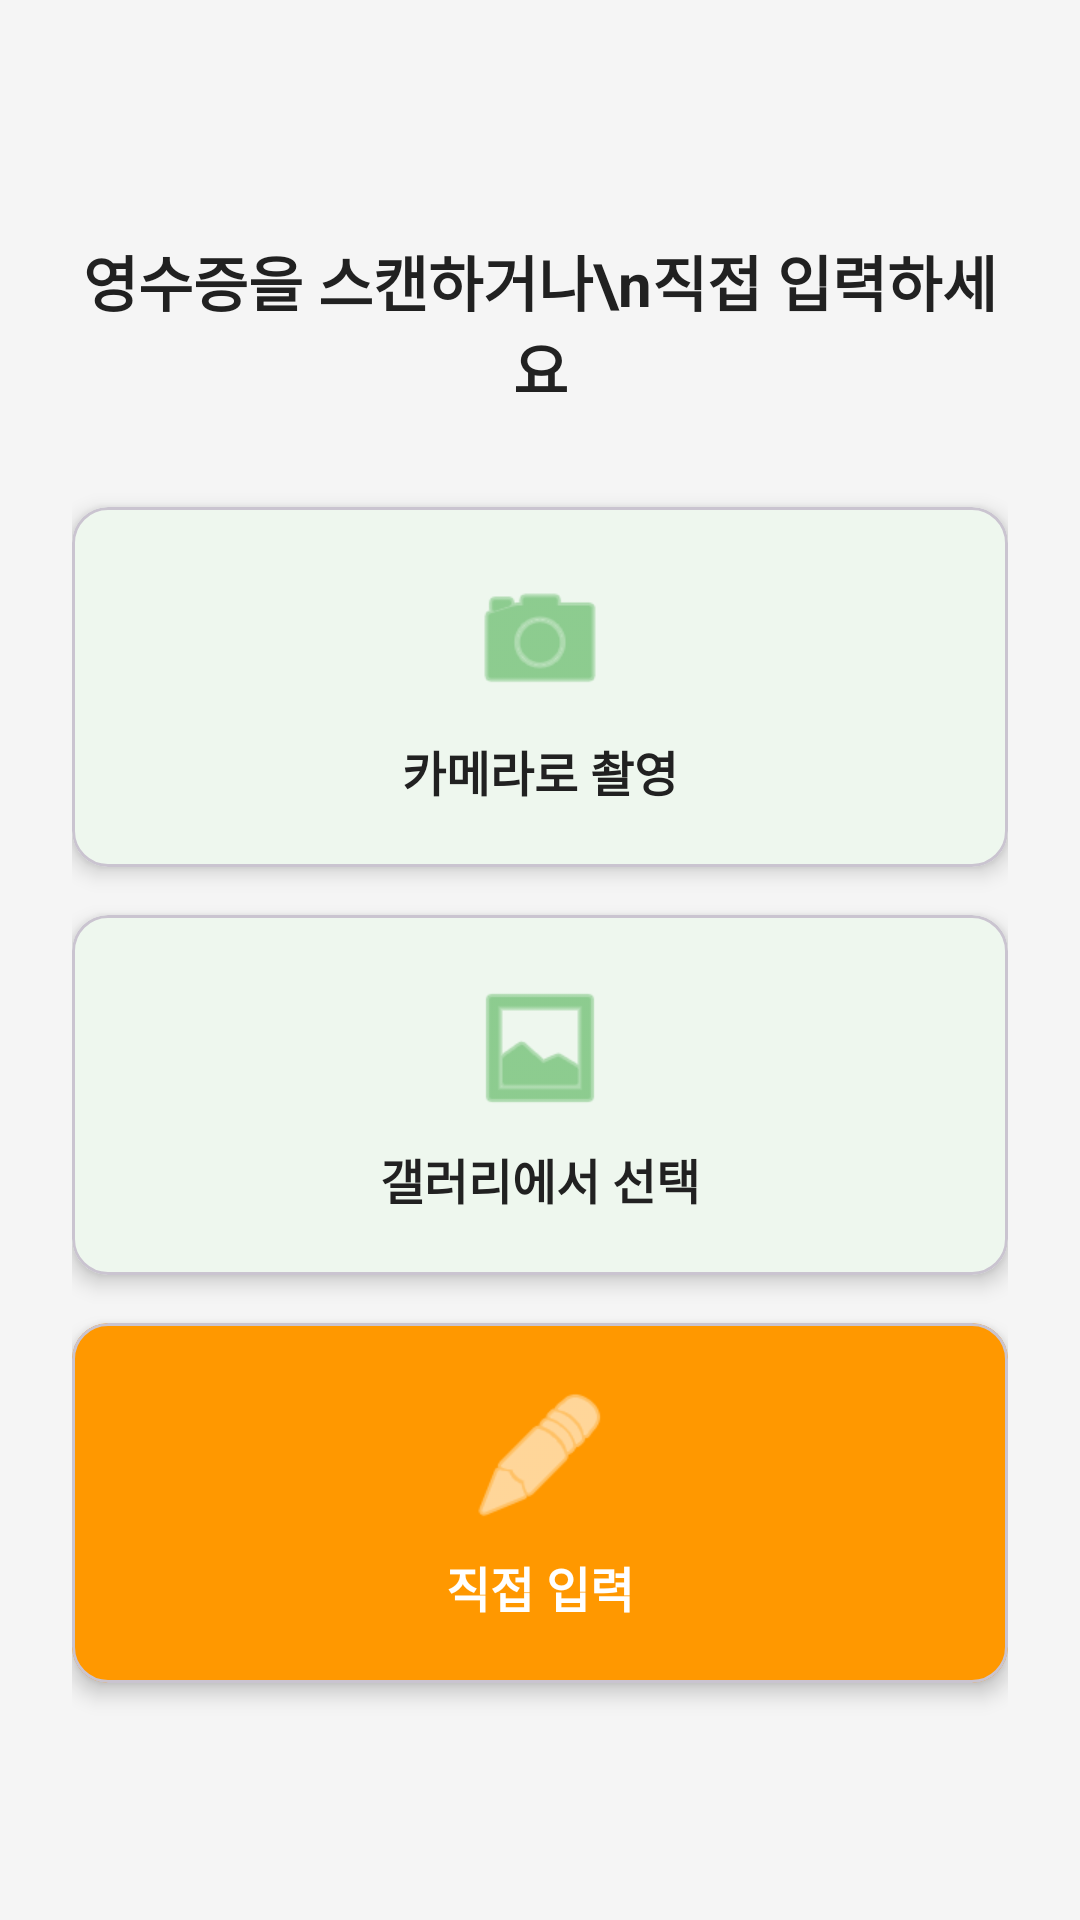

Screen size 1080px×1920px. Icon name, then its box in pixels as box=[x1, y1, x2, y2]:
camera: box=[485, 594, 595, 682]
edit: box=[478, 1394, 600, 1516]
gallery: box=[486, 994, 594, 1102]
